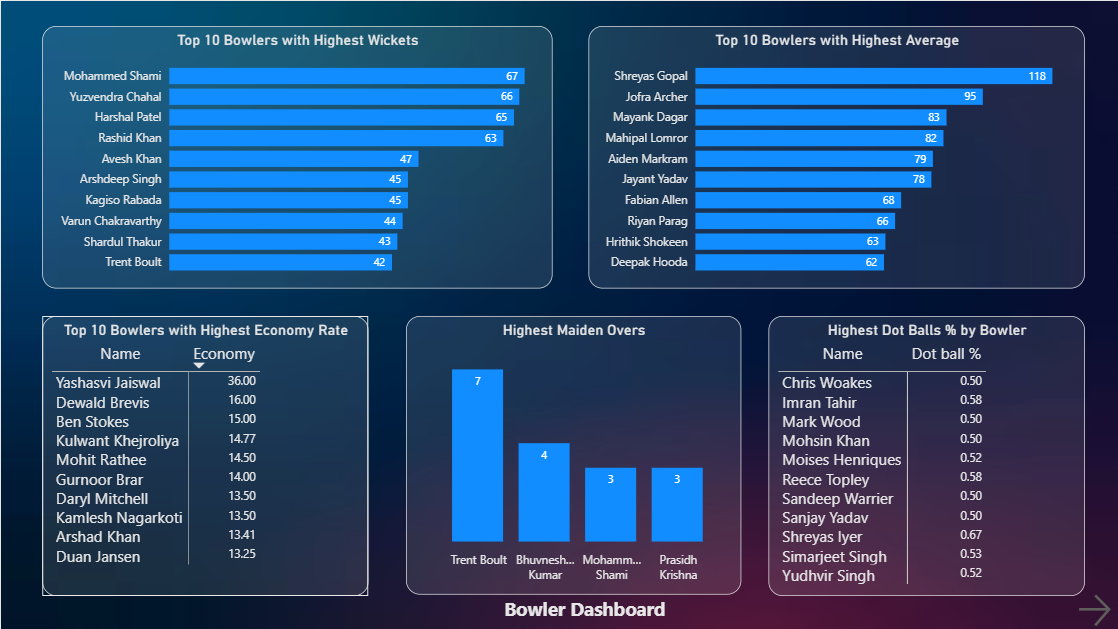

The page's visual inventory and layout, read from the dashboard file:
{"tool":"powerbi","page":{"name":"Bolwer","canvas":[1280,720],"ordinal":1},"visuals":[{"type":"barChart","title":"Top 10 Bowlers with Highest Wickets","fields":{"Category":["fact_bowling_summary.bowler_name"],"Y":["Key_Measures.wickets"]},"box":[47.1,28.6,582.9,300],"z":0},{"type":"barChart","title":"Top 10 Bowlers with Highest Average","fields":{"Y":["Key_Measures.Bowling Average"],"Category":["fact_bowling_summary.bowler_name"]},"box":[671.4,28.6,567.1,300],"z":1000},{"type":"pivotTable","title":"Top 10 Bowlers with Highest Economy Rate","fields":{"Rows":["fact_bowling_summary.bowler_name"],"Values":["Key_Measures.Economy"]},"box":[47.1,360,372.9,320],"z":2000},{"type":"columnChart","title":"Highest Maiden Overs","fields":{"Category":["fact_bowling_summary.bowler_name"],"Y":["fact_bowling_summary.maiden"]},"box":[462.9,360,382.9,318.6],"z":3000},{"type":"pivotTable","title":"Highest Dot Balls % by Bowler","fields":{"Rows":["fact_bowling_summary.bowler_name"],"Values":["Key_Measures.Dot ball %"]},"box":[877.1,360,361.4,320],"z":4000},{"type":"actionButton","title":"Bowlers","box":[1225.7,672.9,54.3,47.1],"z":5000},{"type":"textbox","box":[570,674.3,202.9,45.7],"z":5001}]}

Visuals, with their boxes in screenshot pixels (x1, y1, x2, y2), scaled from the page's 1280x720 canvas onto the 1118x629 screenshot:
"Top 10 Bowlers with Highest Wickets" barChart: 41:25:550:287
"Top 10 Bowlers with Highest Average" barChart: 586:25:1082:287
"Top 10 Bowlers with Highest Economy Rate" pivotTable: 41:314:367:594
"Highest Maiden Overs" columnChart: 404:314:739:593
"Highest Dot Balls % by Bowler" pivotTable: 766:314:1082:594
"Bowlers" actionButton: 1071:588:1117:628
textbox: 498:589:675:628
